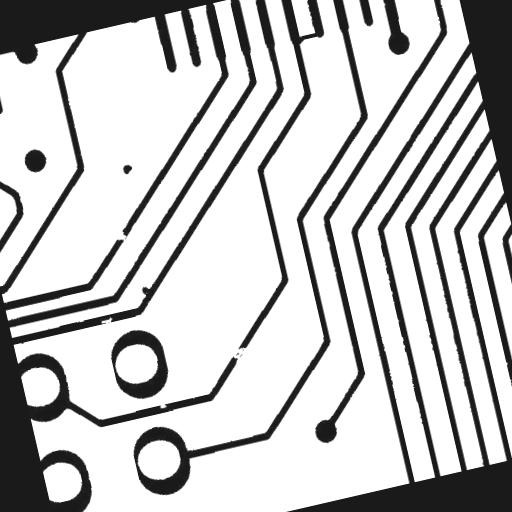copper: (113, 154, 142, 184)
mousebite: (92, 308, 122, 336), (150, 394, 176, 418)
open: (218, 330, 258, 374), (104, 222, 136, 250)
short: (286, 23, 328, 54)
spur: (132, 276, 160, 304)
